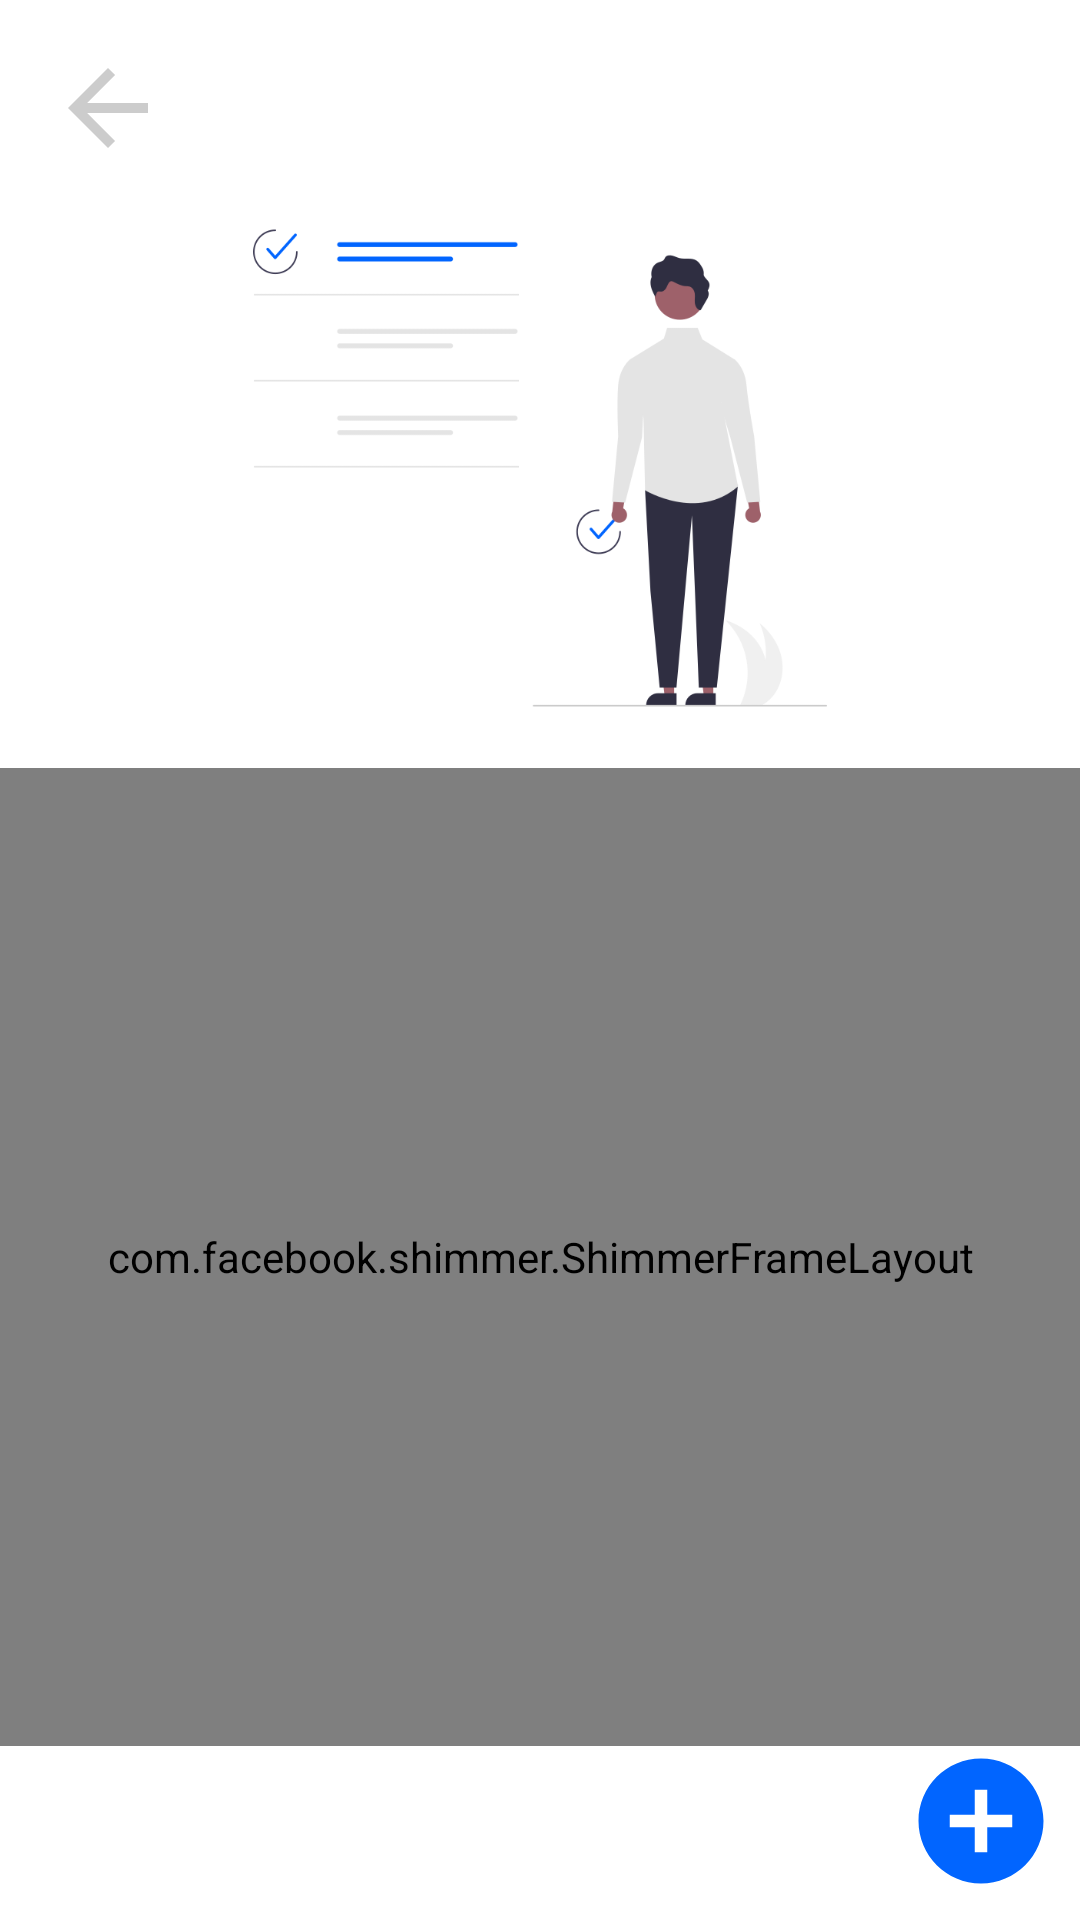

Where to tap for icons on this 1080*1920 app screen, as (x,y):
add circle: (981,1821)
arrow back: (108,108)
